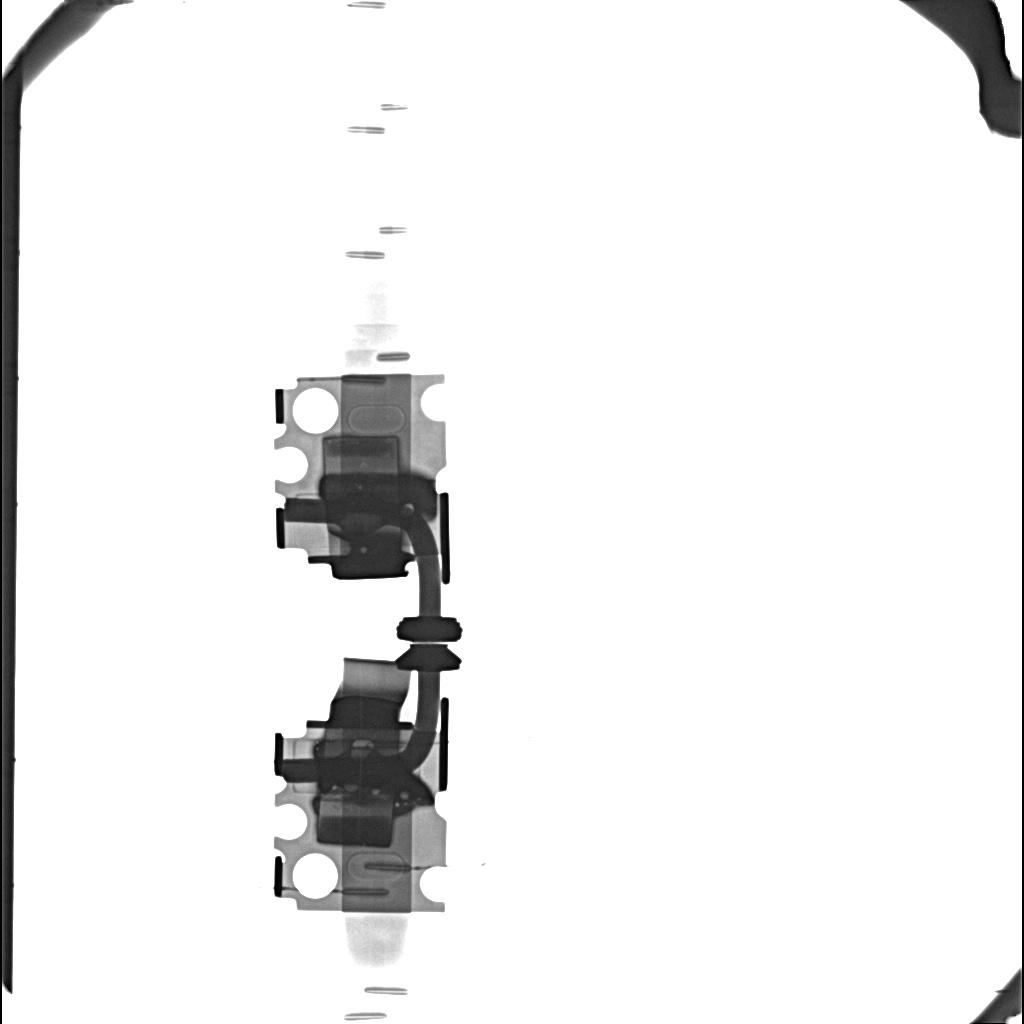defect: (320, 473, 435, 515), (317, 794, 394, 848), (318, 753, 410, 792), (321, 435, 400, 473), (352, 739, 375, 749)
